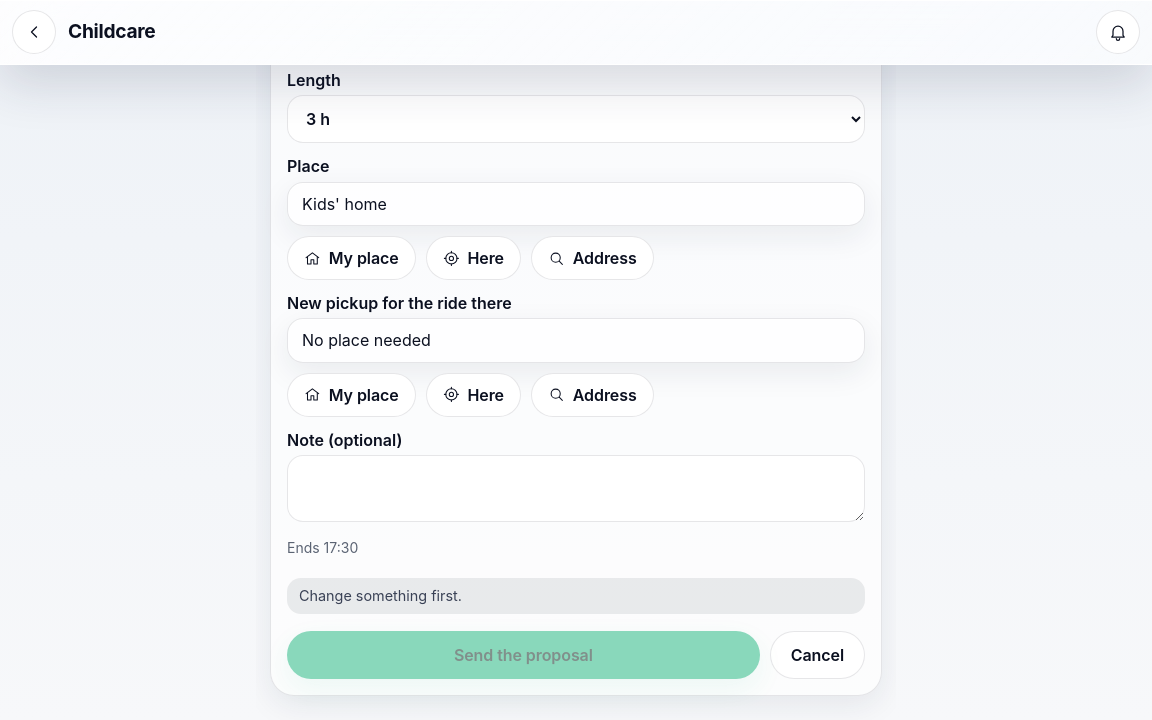
2.14 review fixes (B15) › the same pickup chosen twice keeps its estimate (Send stays on); a moved place re-routes the there ride to it
The image size is (1152, 720).
Later steps or results of the test are not shown.
(page scrolled)
Expected: the element with test id "change-sheet" is shown, [270,65,882,696]
Step 1. Click the button with test id "change-pickup-there-home" → (351, 395), box [287,373,416,417]
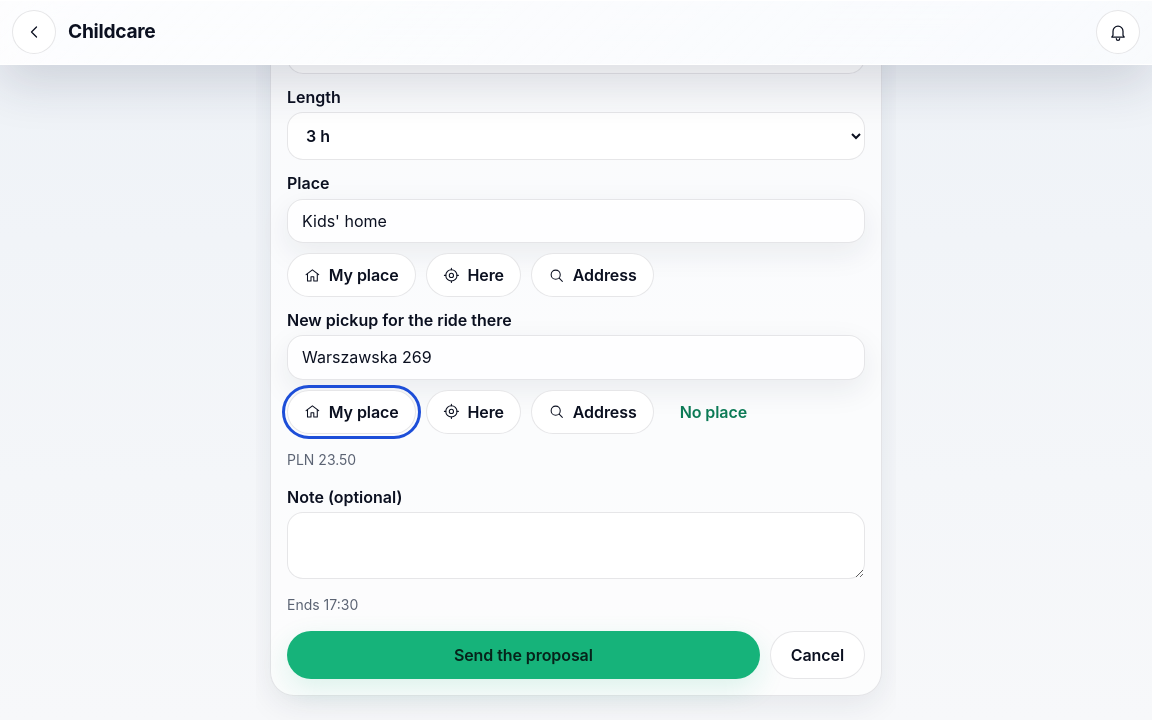
Now the element with test id "change-pickup-there-fare" is shown, box [287,451,356,468]
Step 2. Click the button with test id "change-pickup-there-home" → (351, 412), box [287,390,416,434]
Now the element with test id "change-pickup-there-fare" is shown, box [287,451,356,468]
Now the button with test id "change-send" is enabled, box [287,631,760,679]
# the appointment moves to my home: the there ride's route goes there now (its dropoff follows)
Step 3. Click the button with test id "change-place-home" → (351, 275), box [287,253,416,297]
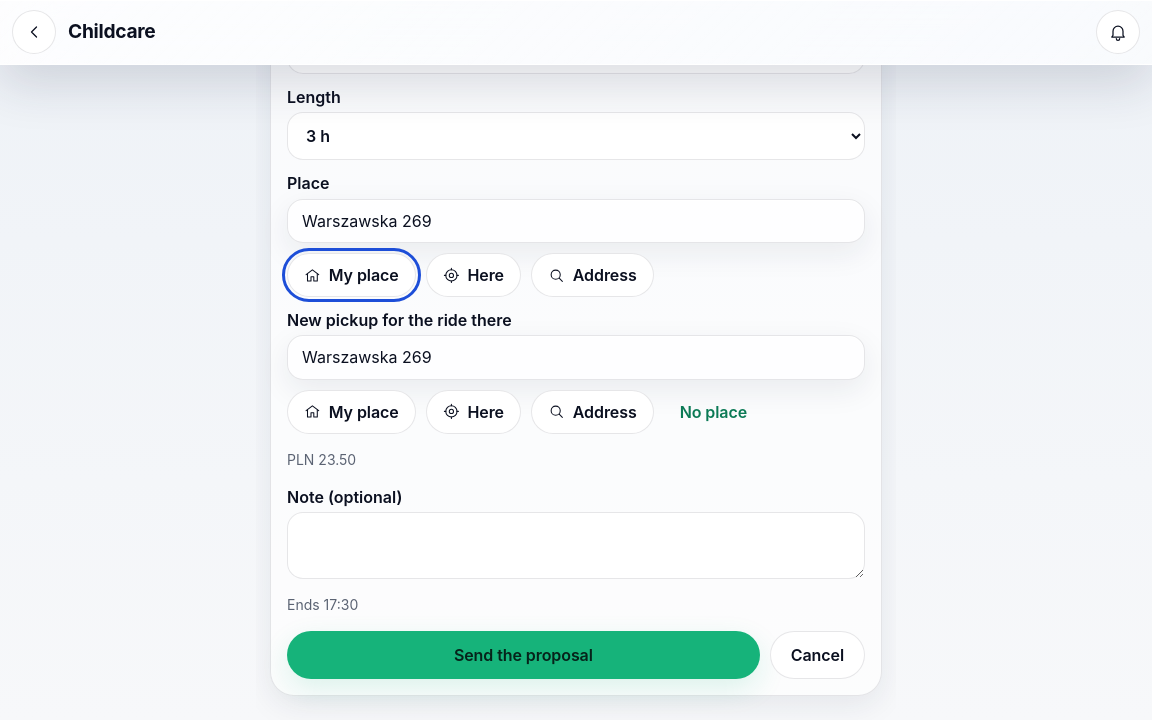
Now the button with test id "change-send" is enabled, box [287,631,760,679]
